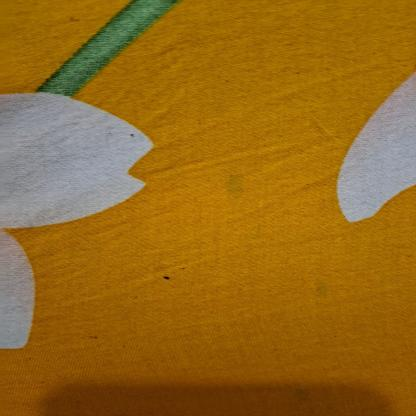spot: (221, 166, 249, 206), (308, 275, 333, 308), (167, 265, 202, 275), (154, 270, 178, 282), (126, 127, 143, 140)
